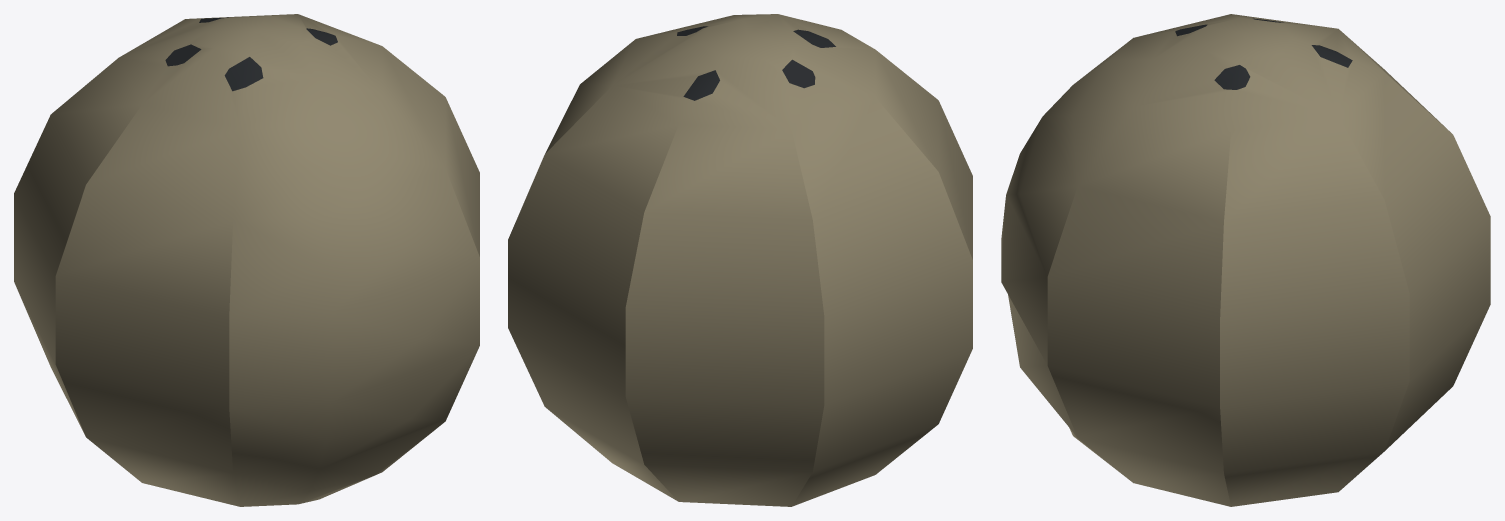
The model's file is Coconaut.fbx.
3 views of the same model, side by side, from view 1: azimuth 30°, elevation 25°; view 2: azimuth 150°, elevation 25°; view 3: azimuth 270°, elevation 25° (orthographic).
Parts seen in each view (by area): view 1: Sphere; view 2: Sphere; view 3: Sphere.
Boxes of the visible parts, box(x1,y1,x2,y2) form: Sphere: box(14, 14, 479, 506); Sphere: box(508, 14, 972, 506); Sphere: box(1001, 14, 1490, 506).
Bounding box in the file's own units: 30.2 × 30.96 × 30.32.
